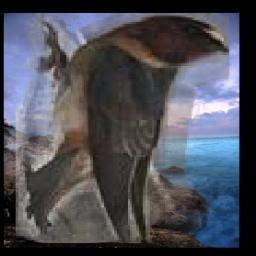Swallow: (16, 13, 229, 243)
